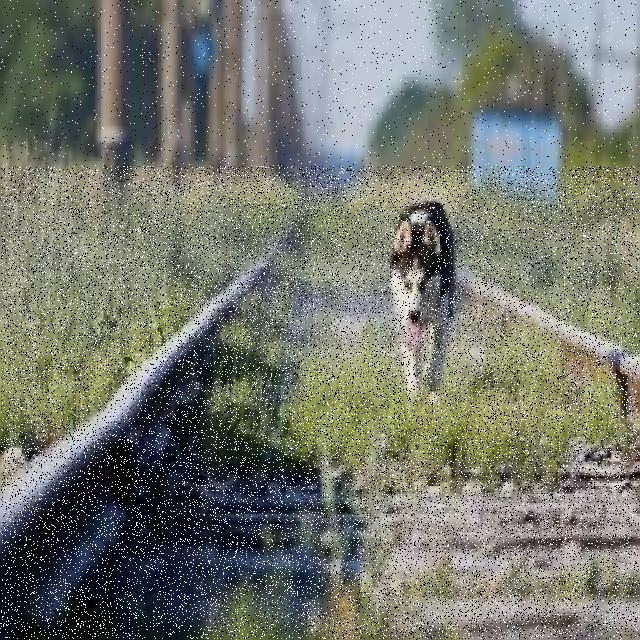danger: (382, 188, 468, 426)
rail: (1, 166, 639, 640)
